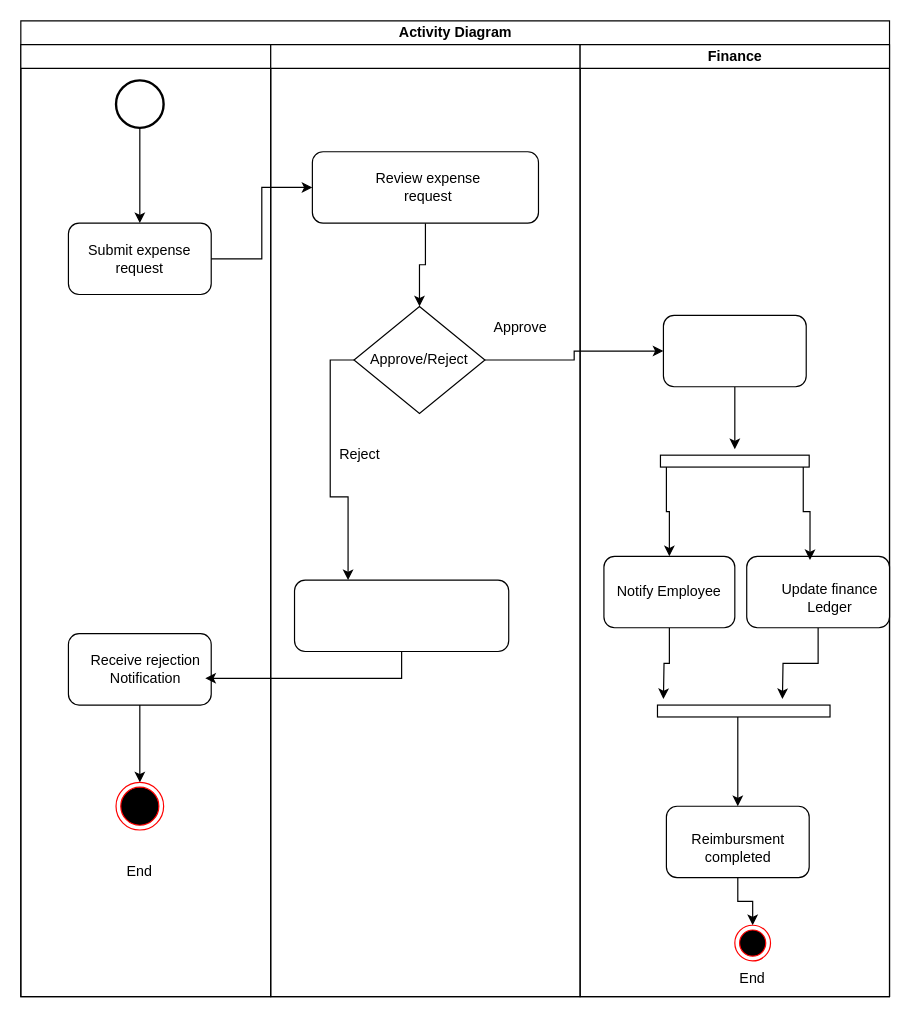
This 910x1017 diagram has some shape labels left out. Each missing label, with the box of its shape:
Employee: (20, 43, 271, 997)
Manager: (270, 43, 580, 997)
Process reumbesment: (662, 314, 806, 387)
Send rejection Notification: (293, 579, 509, 652)
